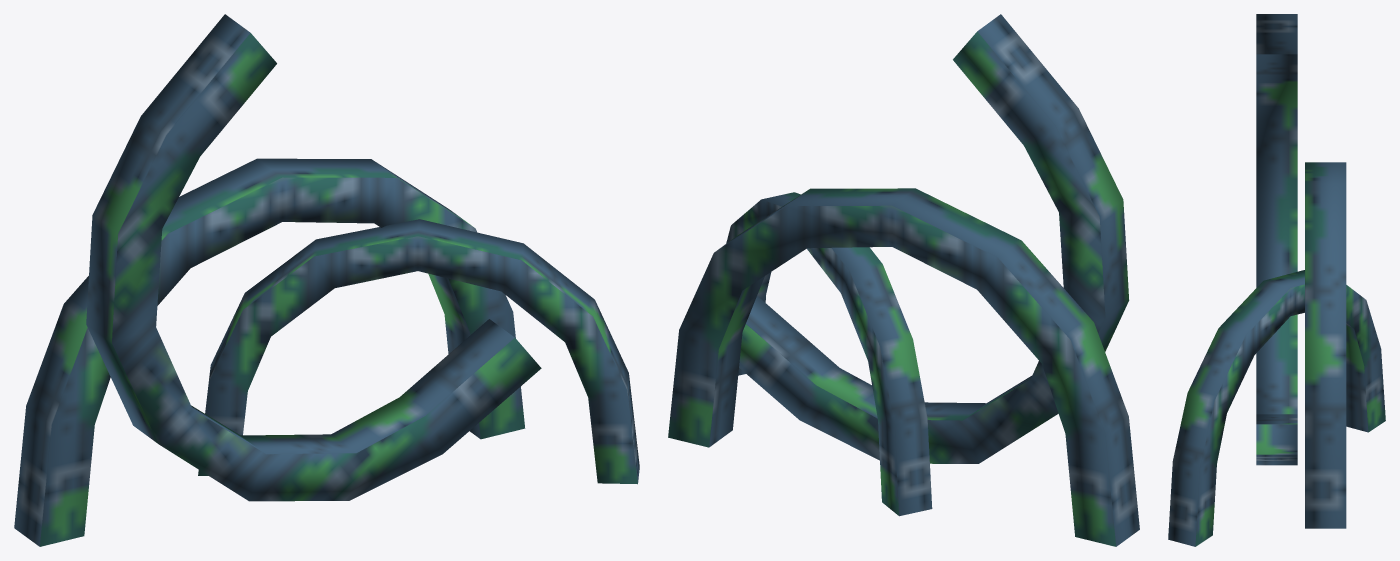
Rendered from portal.fbx.
3 renders of one model, left to right at view 1: azimuth 30°, elevation 25°; view 2: azimuth 150°, elevation 25°; view 3: azimuth 270°, elevation 25°, orthographic. The views are drawn at different scales.
Parts seen in each view (by area): view 1: portal; view 2: portal; view 3: portal.
Boxes of the visible parts, <box> form: portal: <box>14,14,639,546</box>; portal: <box>668,14,1139,546</box>; portal: <box>1168,14,1385,546</box>.
Size of the model in its own units: 2391 by 2115 by 1056.
Materials: 1 (1 with a texture image).
